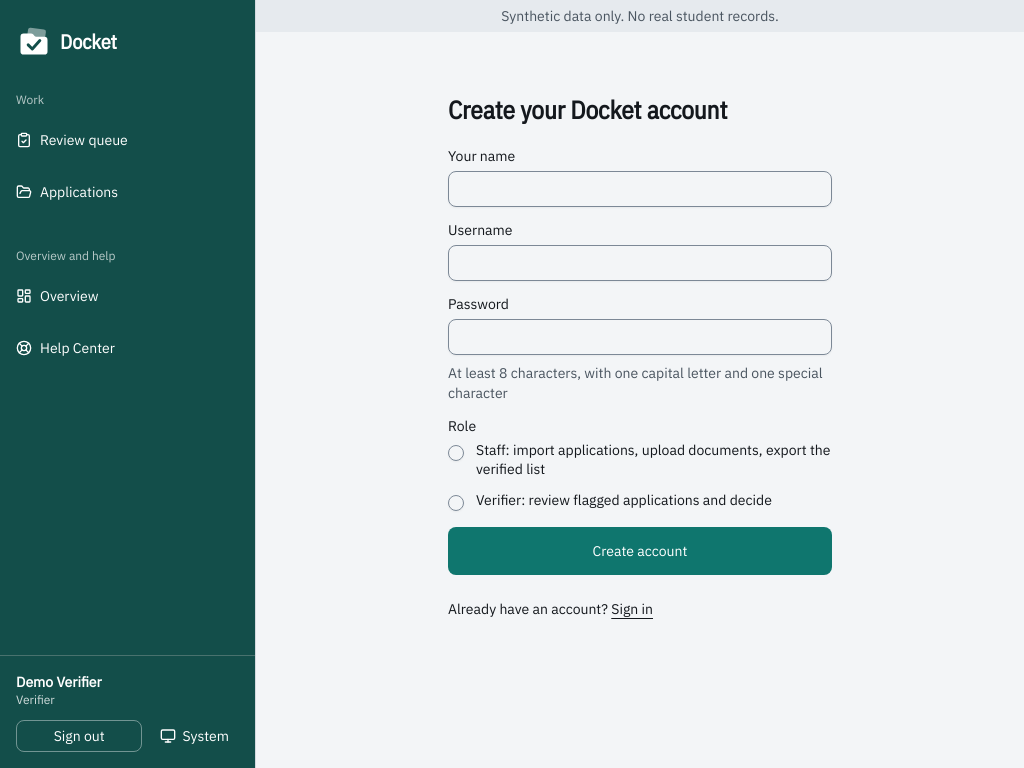
signing up › opens the review queue for a new verifier
Type "Asha Kumar" into the field labelled "Your name" at (640, 189), box [448,171,832,207]
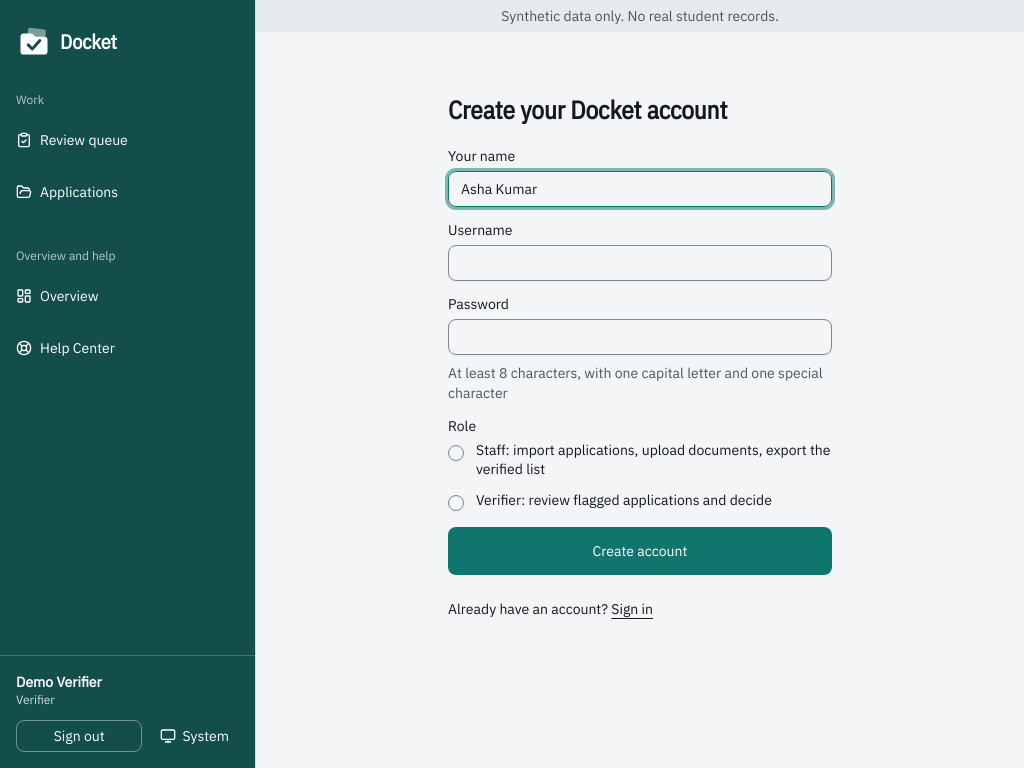
Type "asha.k" into the field labelled "Username" at (640, 263), box [448,245,832,281]
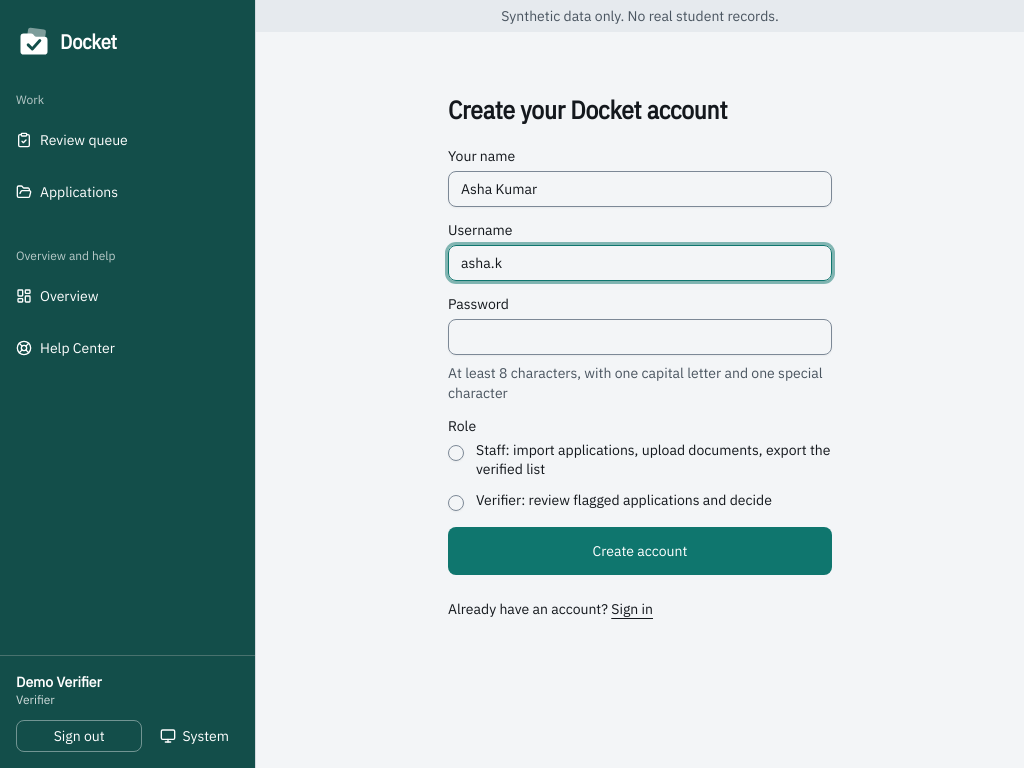
Type "A-long-phrase-1" into the password field labelled "Password" at (640, 337), box [448,319,832,355]
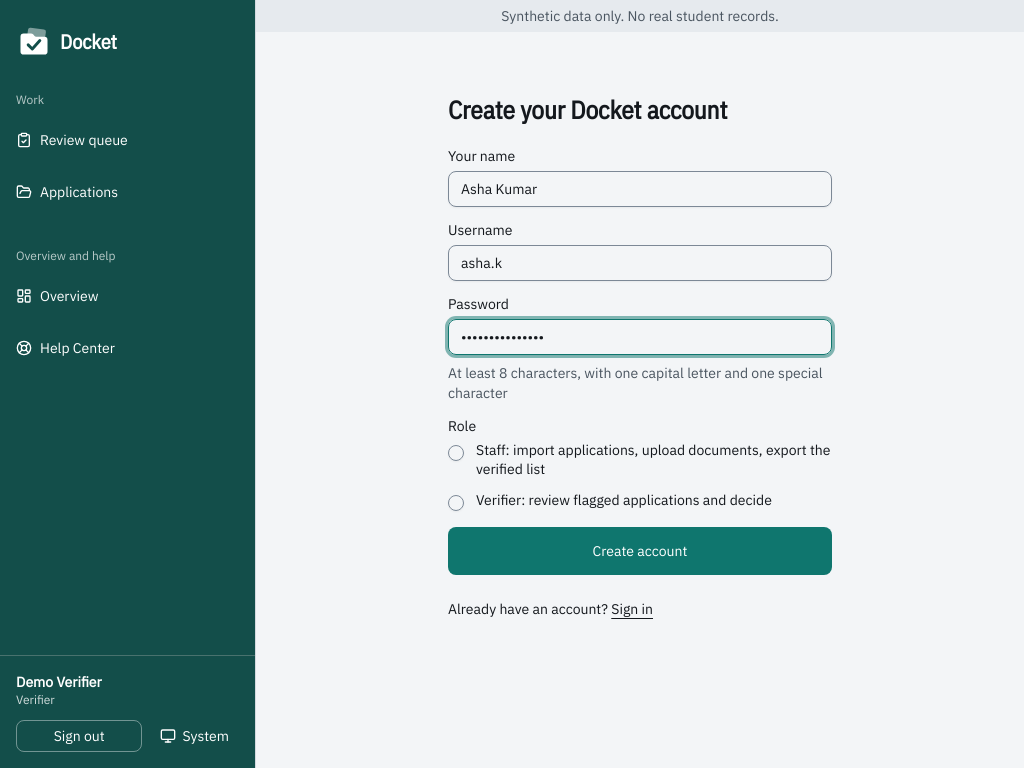
Click the 2nd radio button named "Verifier" at (456, 503), box [448,495,464,511]
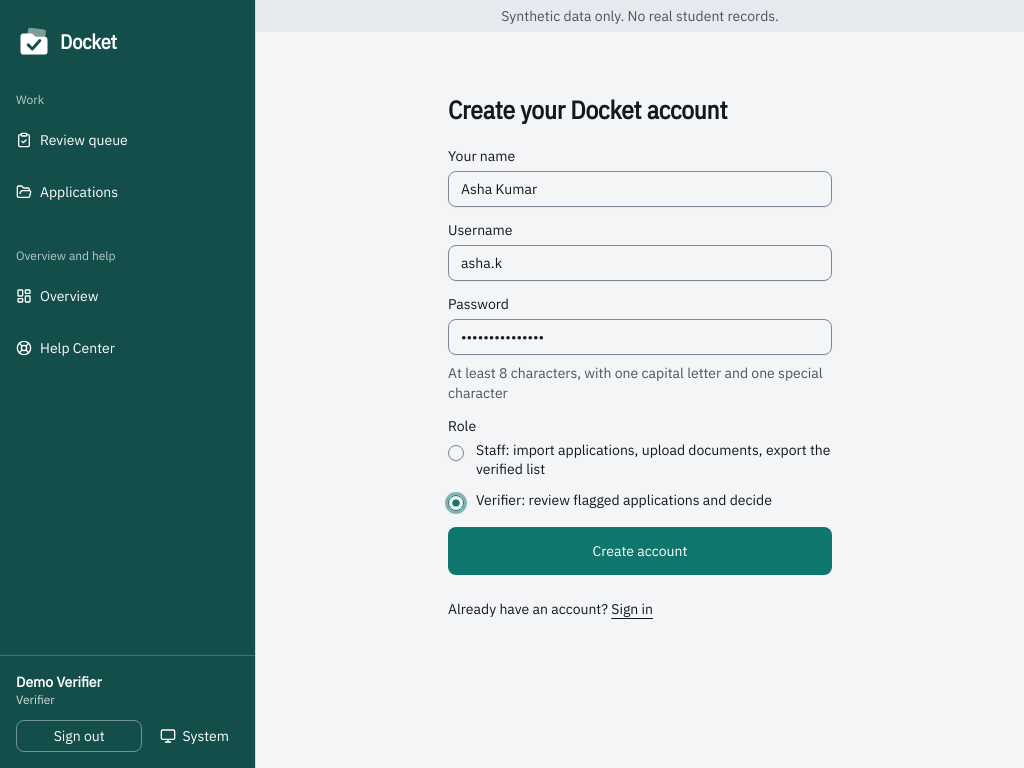
Click the button "Create account" at (640, 551), box [448,527,832,575]
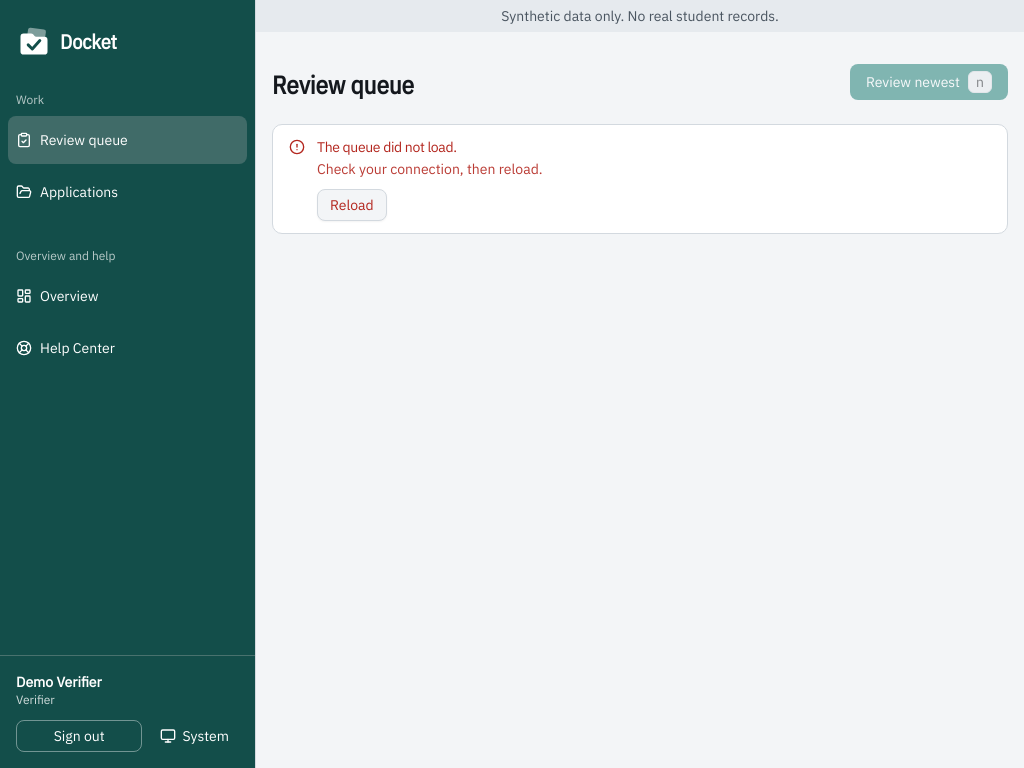
Expected: the heading "Review queue" is shown, [272,71,414,100]
